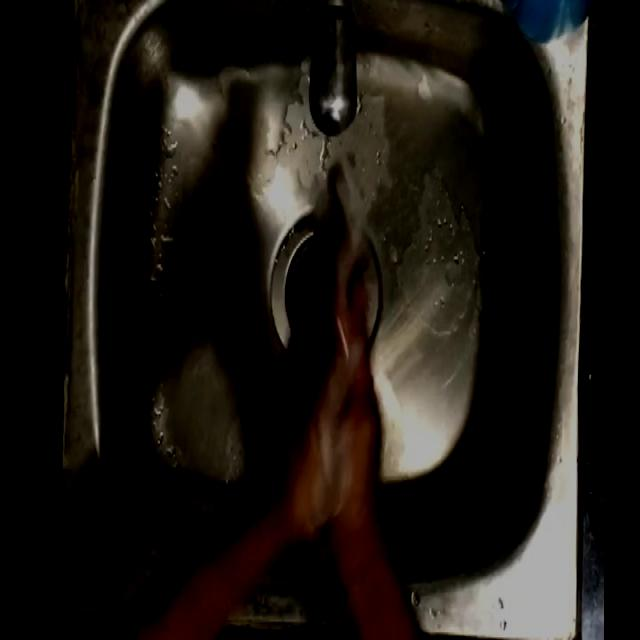step_1: (264, 144, 408, 494)
